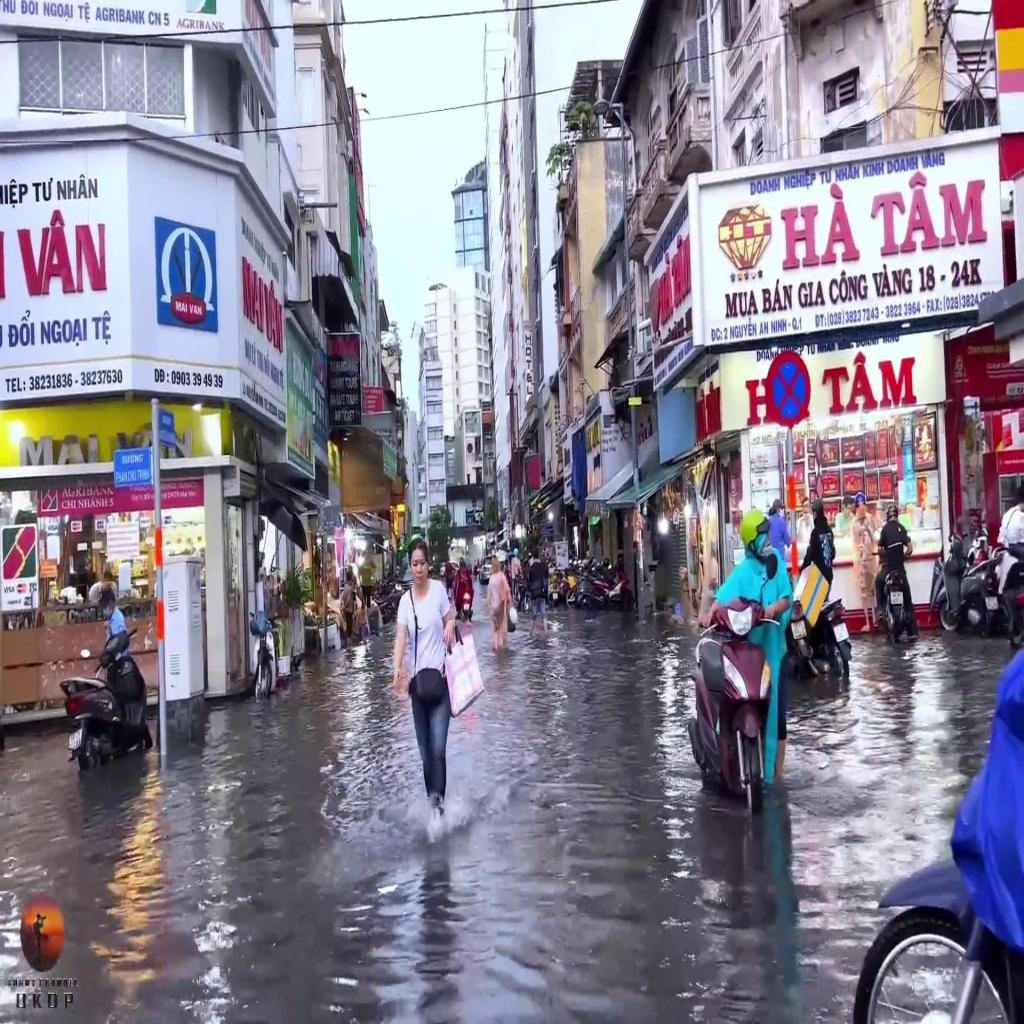cam_dung_xe_va_do_xe: (765, 350, 812, 430)
